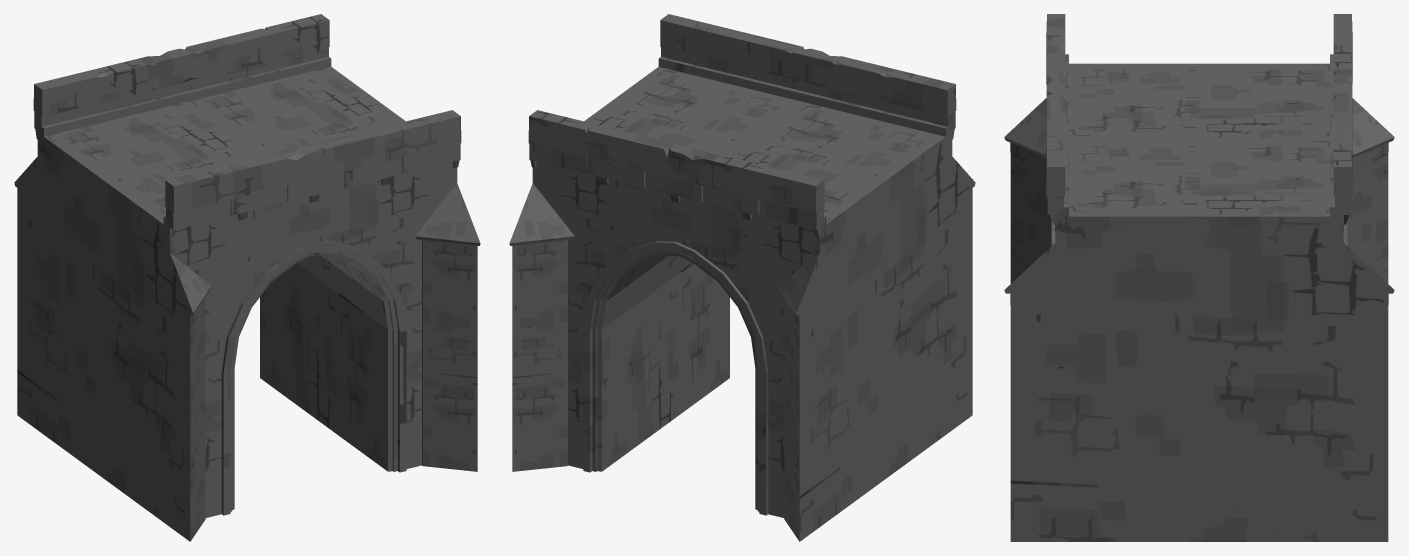
Rendered from SM_Env_Bridge_Middle.fbx.
The picture shows the model from 3 angles, left to right: view 1: azimuth 30°, elevation 25°; view 2: azimuth 150°, elevation 25°; view 3: azimuth 270°, elevation 25°; orthographic projection. The views are drawn at different scales.
Visible parts, largest first — view 1: SM_Env_Bridge_Middle, SM_Env_City_Road; view 2: SM_Env_Bridge_Middle, SM_Env_City_Road; view 3: SM_Env_Bridge_Middle, SM_Env_City_Road.
Boxes of the visible parts, x1,y1,x2,y2 form: SM_Env_Bridge_Middle: (14, 14, 480, 541); SM_Env_City_Road: (44, 66, 405, 223); SM_Env_Bridge_Middle: (509, 14, 975, 541); SM_Env_City_Road: (584, 66, 945, 223); SM_Env_Bridge_Middle: (1004, 14, 1394, 541); SM_Env_City_Road: (1069, 63, 1329, 216).
Size of the model in its own units: 6.35 by 7.26 by 6.86.
1 material, 1 textured.
